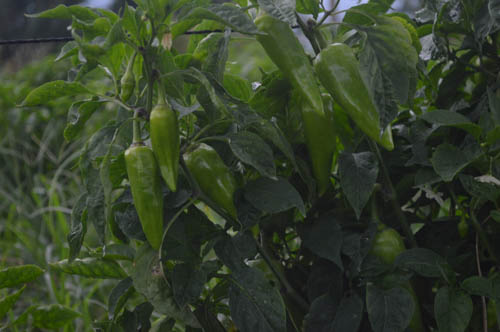ChiliPepper: (318, 46, 392, 146), (257, 17, 323, 113), (376, 228, 422, 323), (129, 149, 165, 247), (302, 97, 336, 184), (191, 151, 235, 211), (149, 108, 179, 187)
